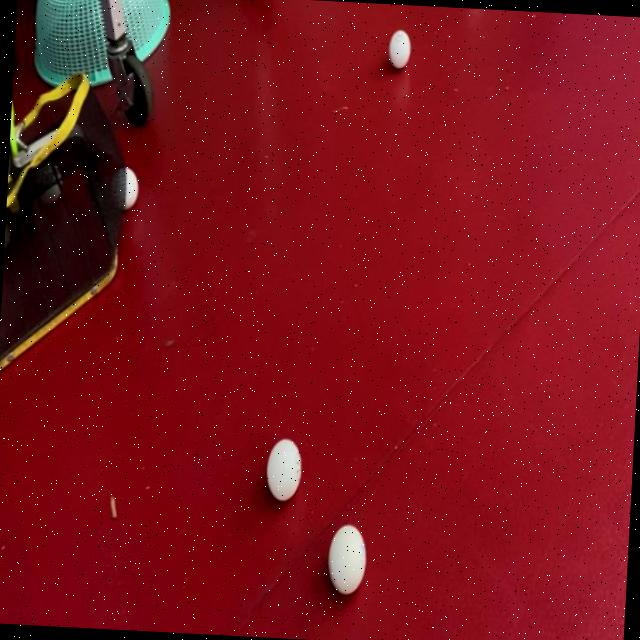ping-pong-ball: (325, 520, 368, 598), (262, 436, 304, 504), (384, 25, 412, 72)
